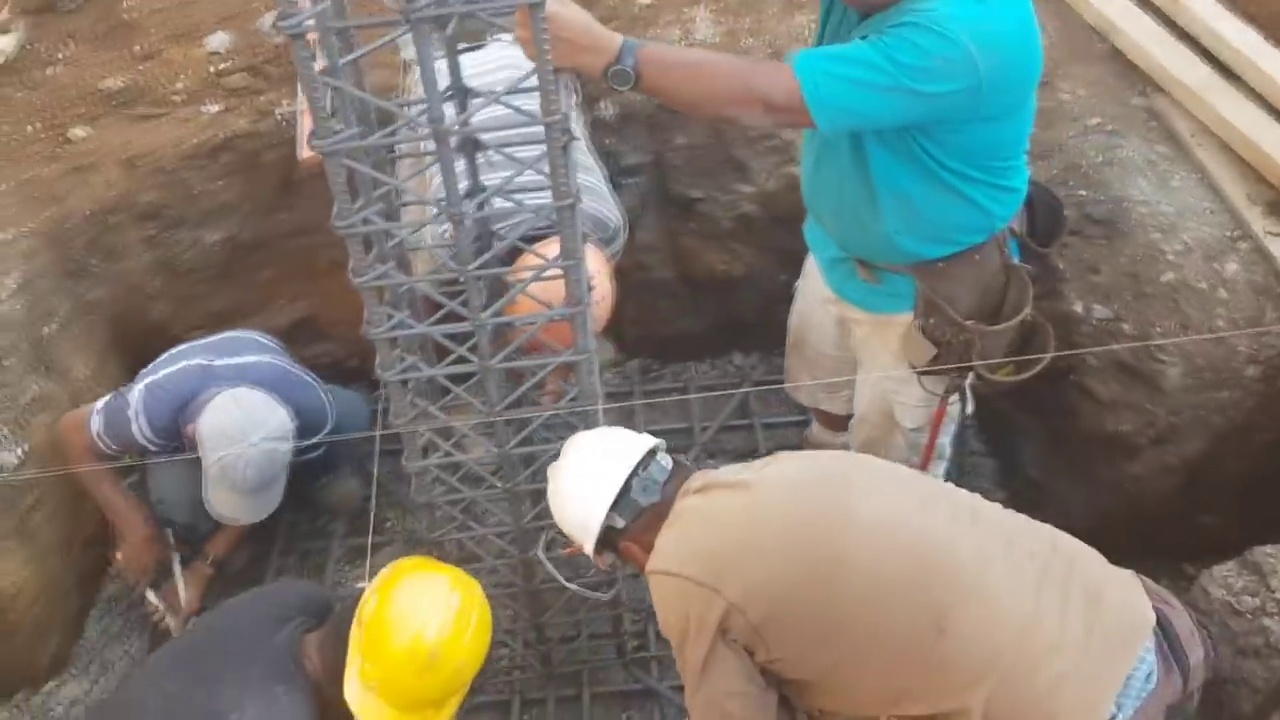helmet: (343, 559, 488, 719), (540, 418, 671, 584), (499, 234, 619, 362)
helmet-off: (182, 389, 300, 536)
helmet-on: (288, 564, 494, 719), (542, 418, 718, 586), (480, 230, 624, 366)
person: (513, 0, 1045, 513), (544, 435, 1220, 720), (382, 11, 634, 418), (55, 329, 378, 632), (82, 557, 495, 720)
